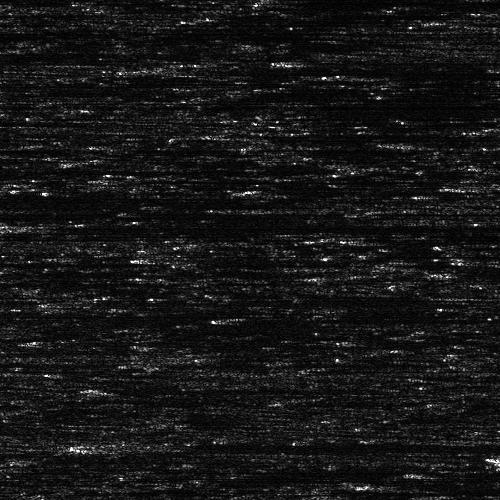object: (258, 45, 331, 74), (151, 128, 286, 139), (395, 16, 500, 29), (167, 311, 260, 322), (139, 68, 244, 75), (302, 72, 385, 79), (399, 270, 472, 277), (73, 386, 136, 393), (105, 442, 158, 449)
shadow: (295, 45, 381, 74), (132, 442, 486, 449), (191, 68, 500, 75), (214, 311, 390, 322), (219, 128, 388, 139), (344, 72, 500, 79), (105, 386, 191, 393), (457, 16, 500, 29), (436, 270, 500, 277)
